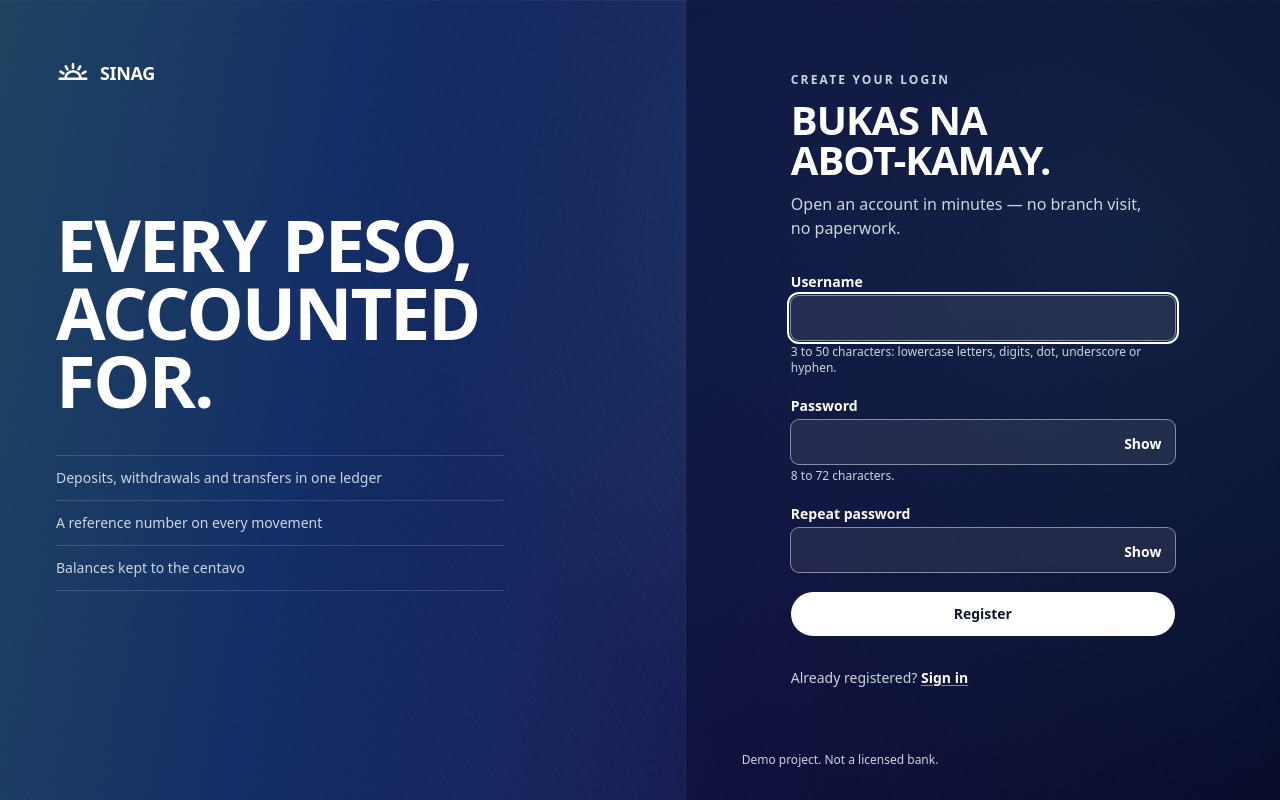
Test: RegisterPage › shows a busy "Creating…" button while the request runs
Type "new.user" into the field labelled "Username" at (983, 318), box [791,296,1175,340]
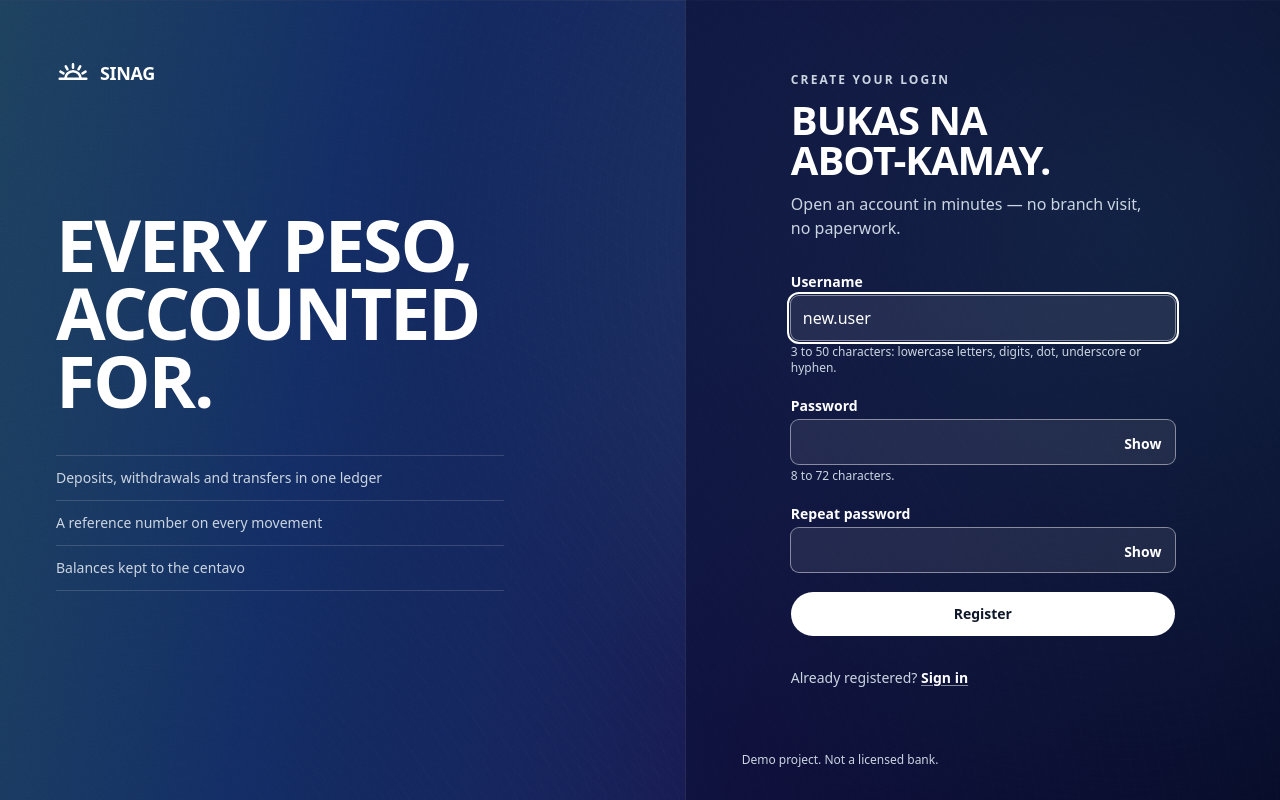
Type "long-enough-1" into the password field labelled "Password" at (983, 442), box [791,420,1175,464]
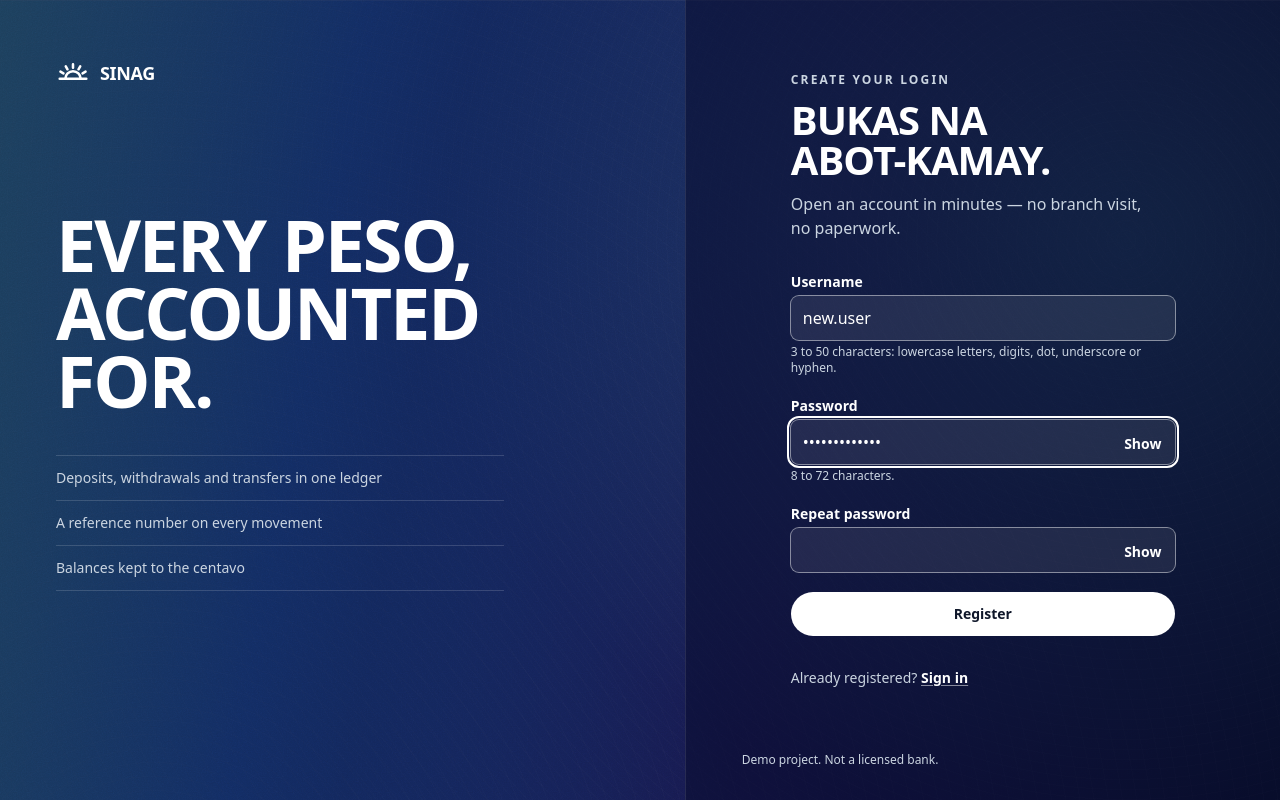
Type "long-enough-1" into the password field labelled "Repeat password" at (983, 550), box [791,528,1175,572]
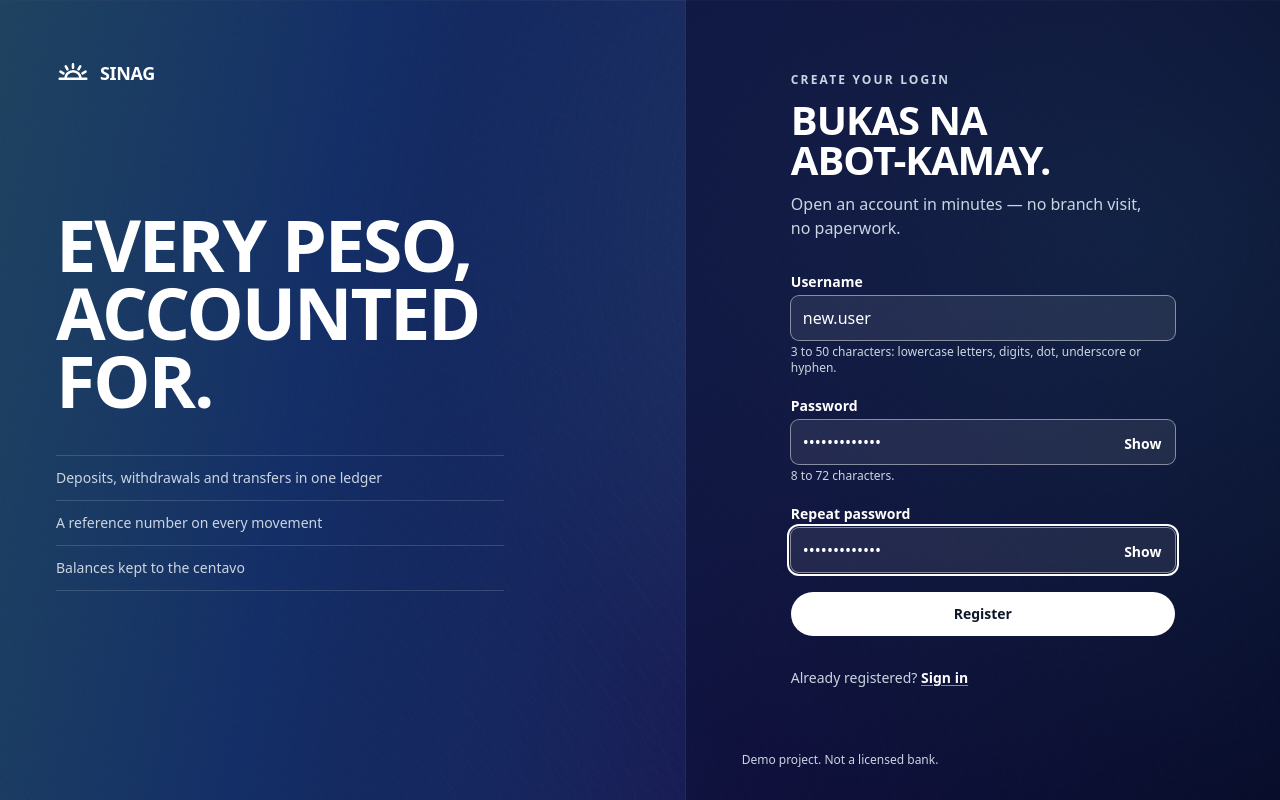
Click the button "Register" at (983, 614), box [791,592,1175,636]
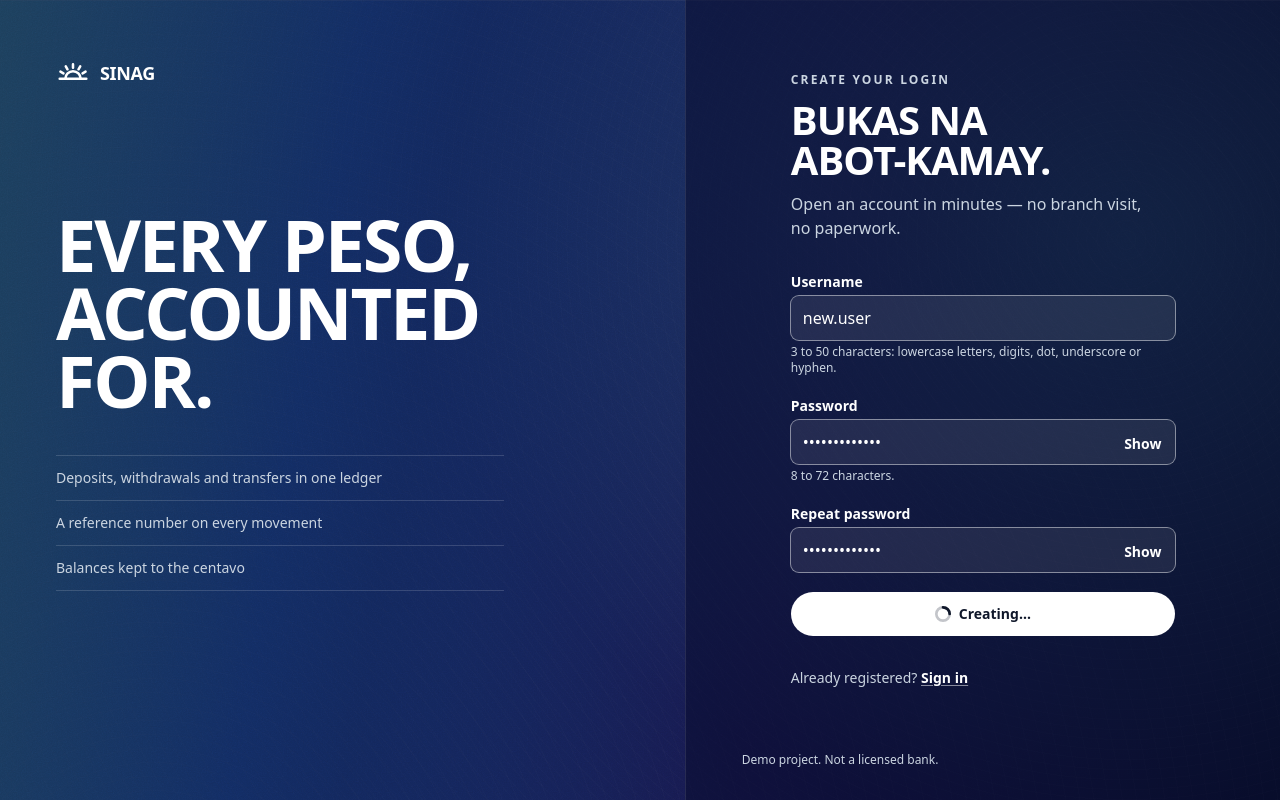
Now the button "Creating…" is disabled, box [791,592,1175,636]
